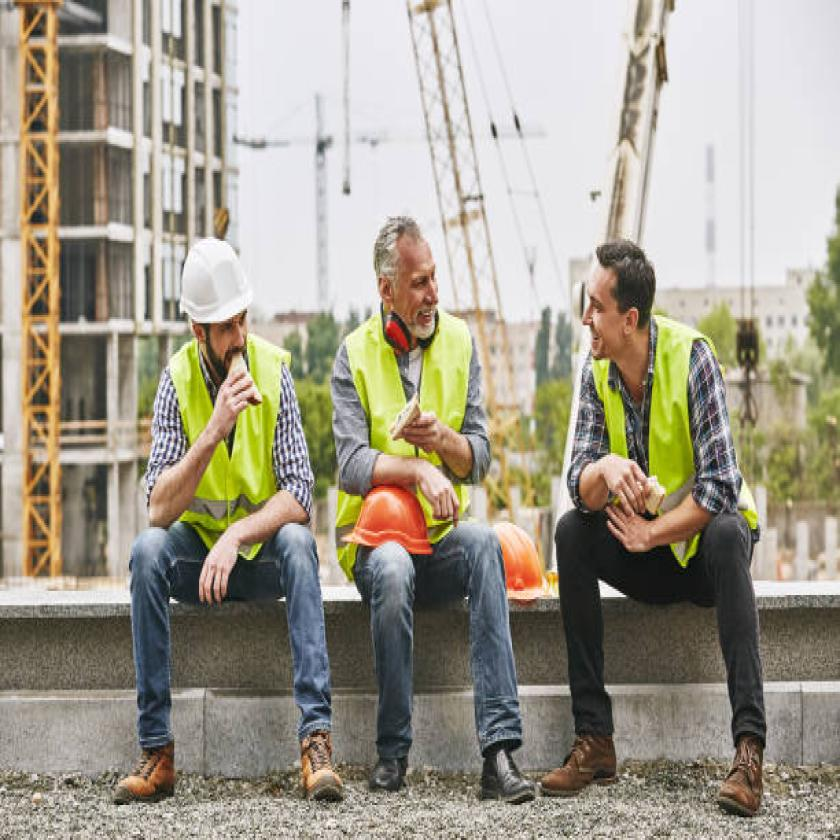Con_casco: (155, 195, 271, 400)
Sin_casco: (558, 225, 672, 412), (351, 208, 454, 345)
